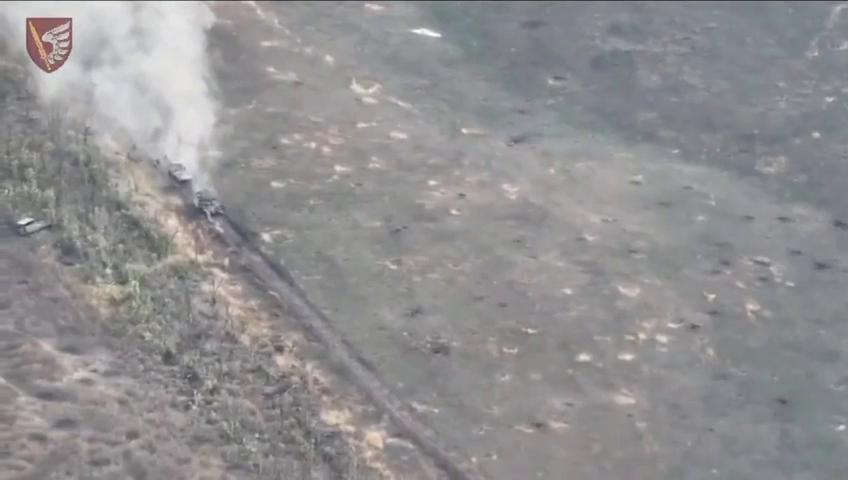tank: (189, 186, 229, 224), (163, 160, 196, 191)
